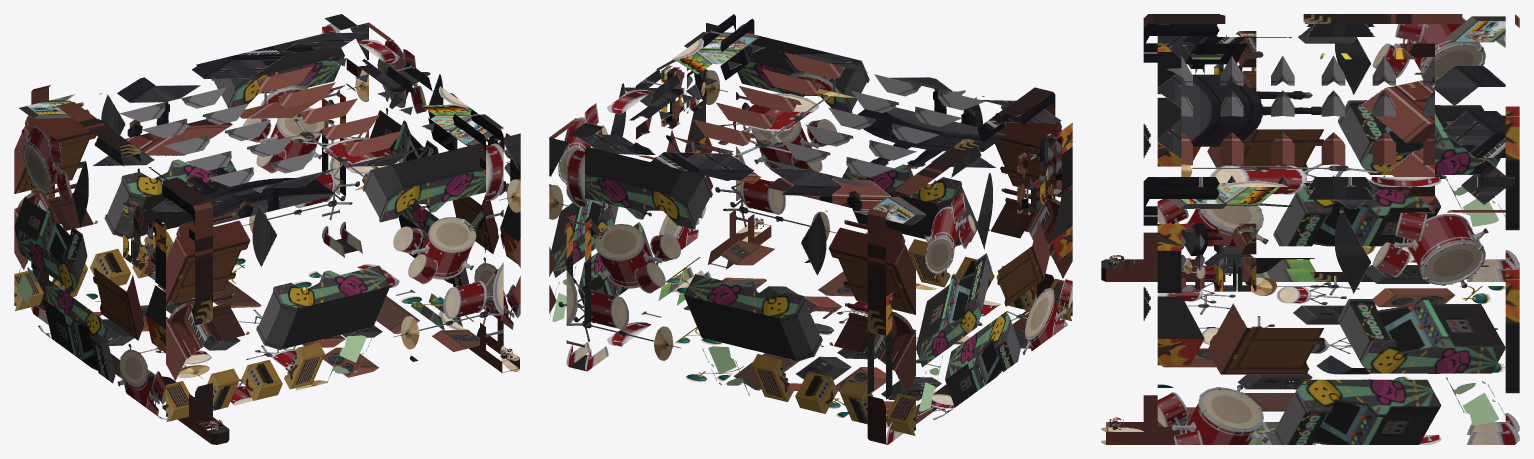
3 views of the same model, side by side, from view 1: azimuth 30°, elevation 25°; view 2: azimuth 150°, elevation 25°; view 3: azimuth 270°, elevation 25° (orthographic). The views are drawn at different scales.
Size of the model in its own units: 0.5 by 0.3025 by 0.445.
